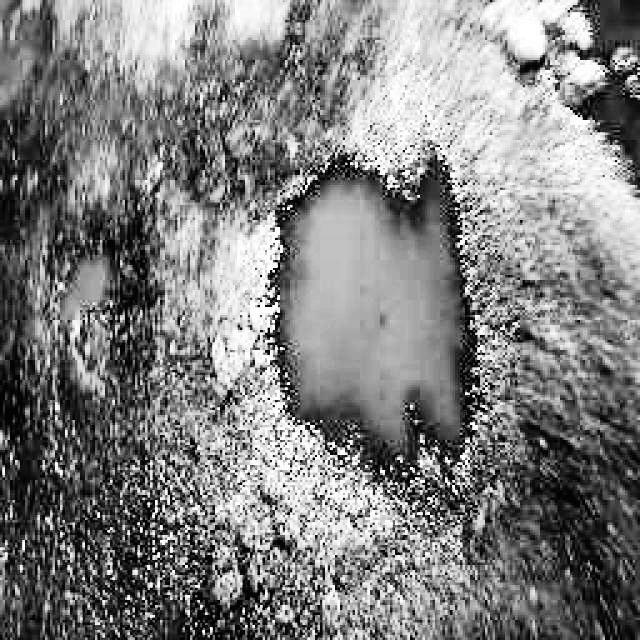Pothole: (248, 132, 496, 487)
